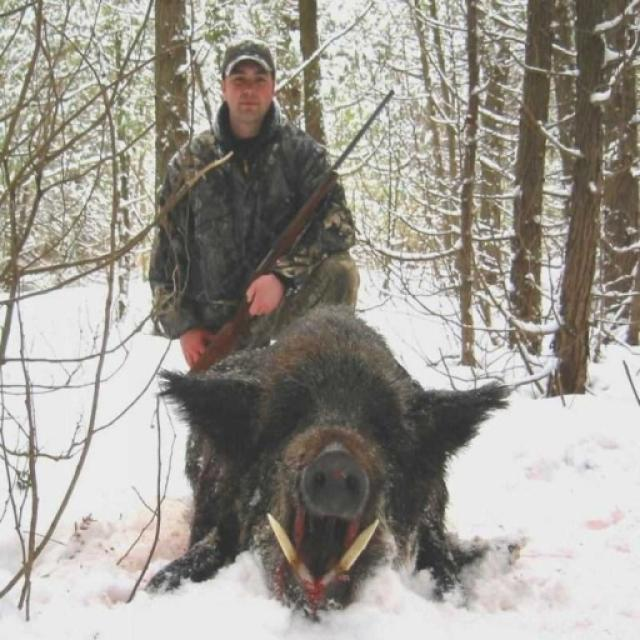pig: (141, 288, 549, 640)
